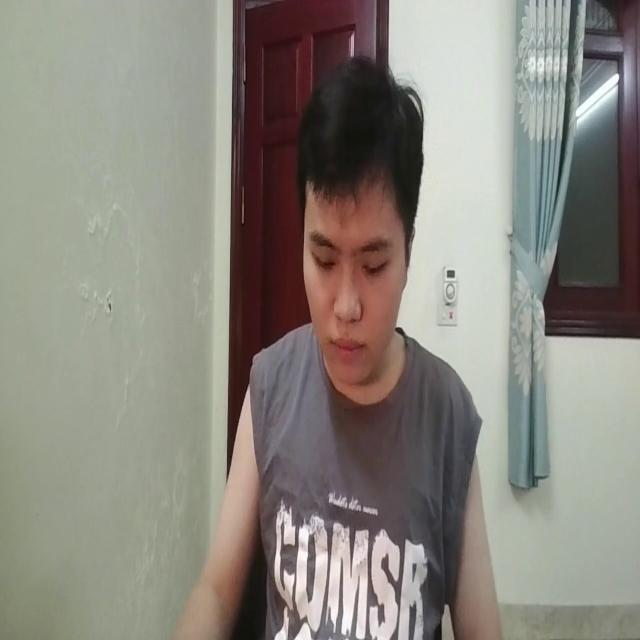student: (215, 40, 503, 640)
